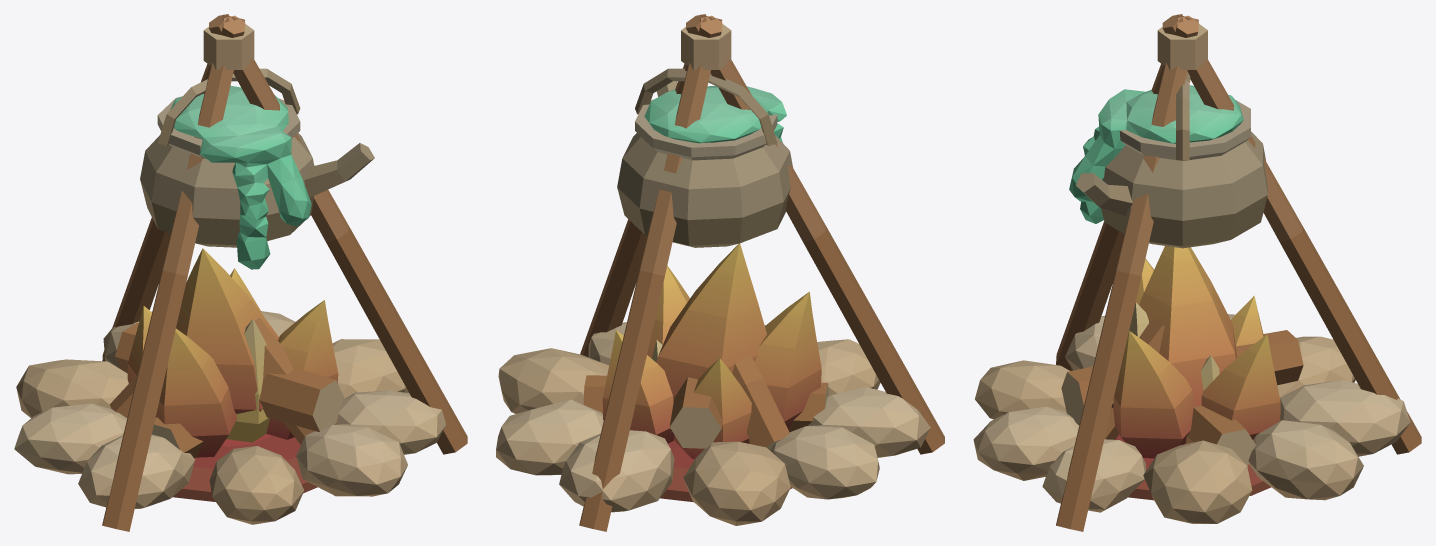
File: ranch_campfire.fbx
3 views of the same model, side by side, from view 1: azimuth 30°, elevation 25°; view 2: azimuth 150°, elevation 25°; view 3: azimuth 270°, elevation 25° (orthographic).
Parts seen in each view (by area): view 1: ranch_campfire; view 2: ranch_campfire; view 3: ranch_campfire.
Boxes of the visible parts, x1,y1,x2,y2 form: ranch_campfire: [14, 14, 467, 531]; ranch_campfire: [496, 14, 944, 531]; ranch_campfire: [973, 14, 1421, 531].
Size of the model in its own units: 4.27 by 4.55 by 4.25.
